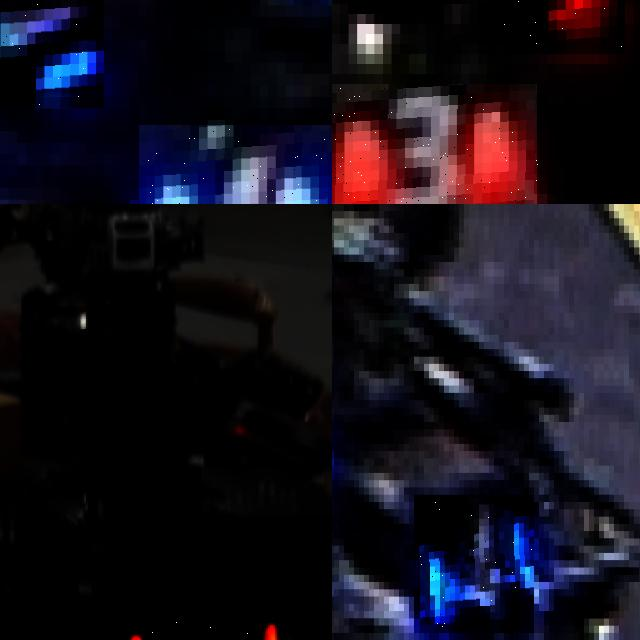B4: (414, 495, 534, 633), (138, 125, 332, 204), (0, 0, 103, 108)
R3: (332, 84, 538, 204), (504, 0, 625, 54)
Rs: (125, 617, 287, 640)
